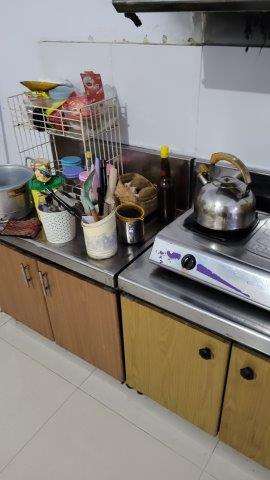botolkaca: (156, 145, 174, 229)
